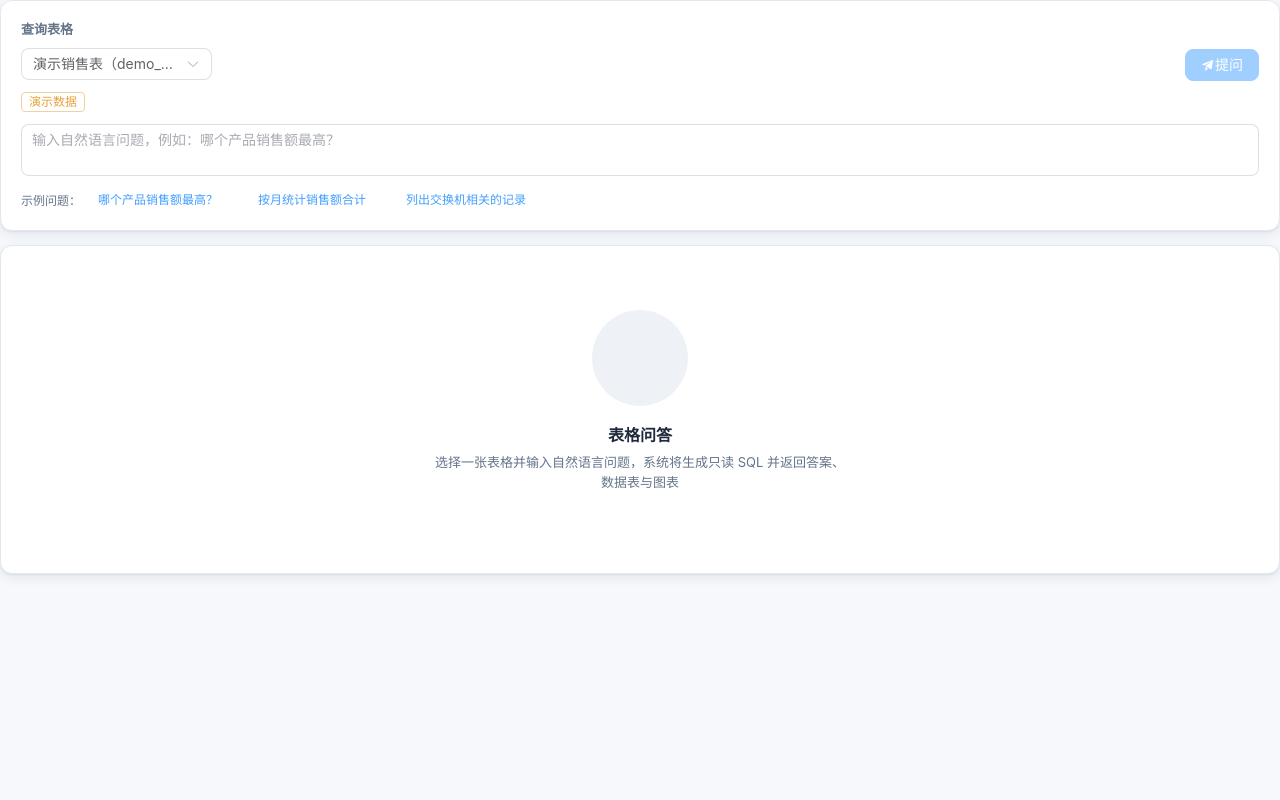
Test: TableQaTab 表格问答 › 接口报错 400 时展示明确错误提示
Type "查询数据" into the text box with placeholder "输入自然语言问题，例如：哪个产品销售额最高？" at (640, 150), box left=21, top=124, right=1259, bottom=176
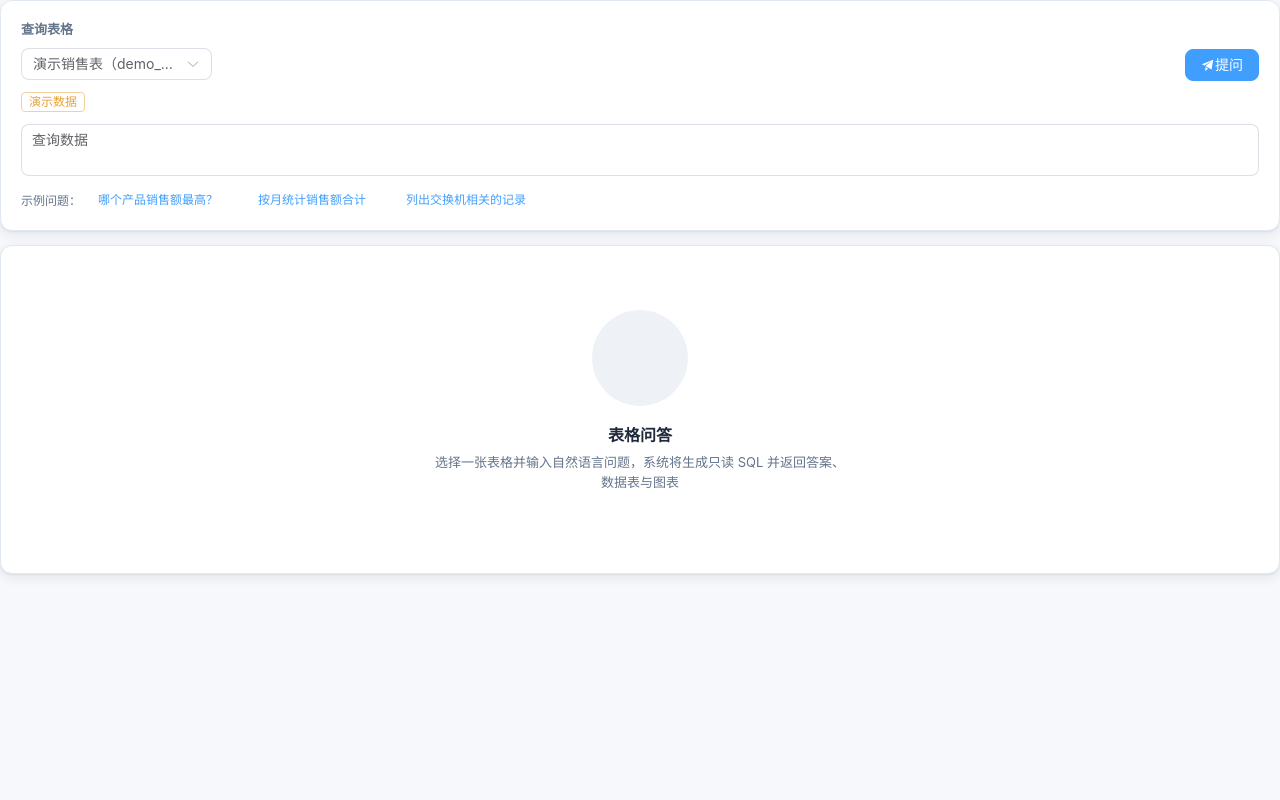
Click the button "提问" at (1222, 65), box left=1185, top=49, right=1259, bottom=81
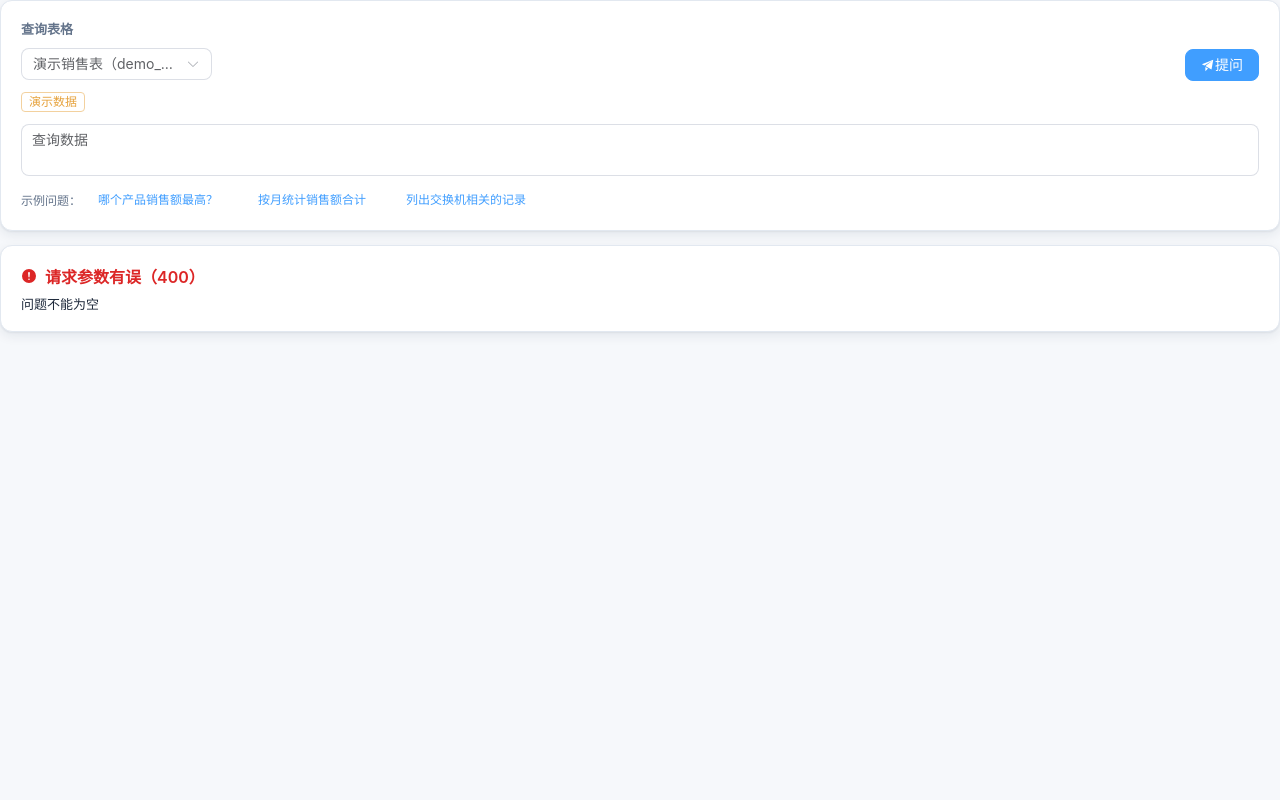
expect the element with class "error-card" is shown: met, box left=0, top=245, right=1279, bottom=332
expect the element with class "error-card" shows "请求参数有误（400）": met, box left=45, top=267, right=205, bottom=287
expect the element with class "error-card" shows "问题不能为空": met, box left=21, top=296, right=99, bottom=312
